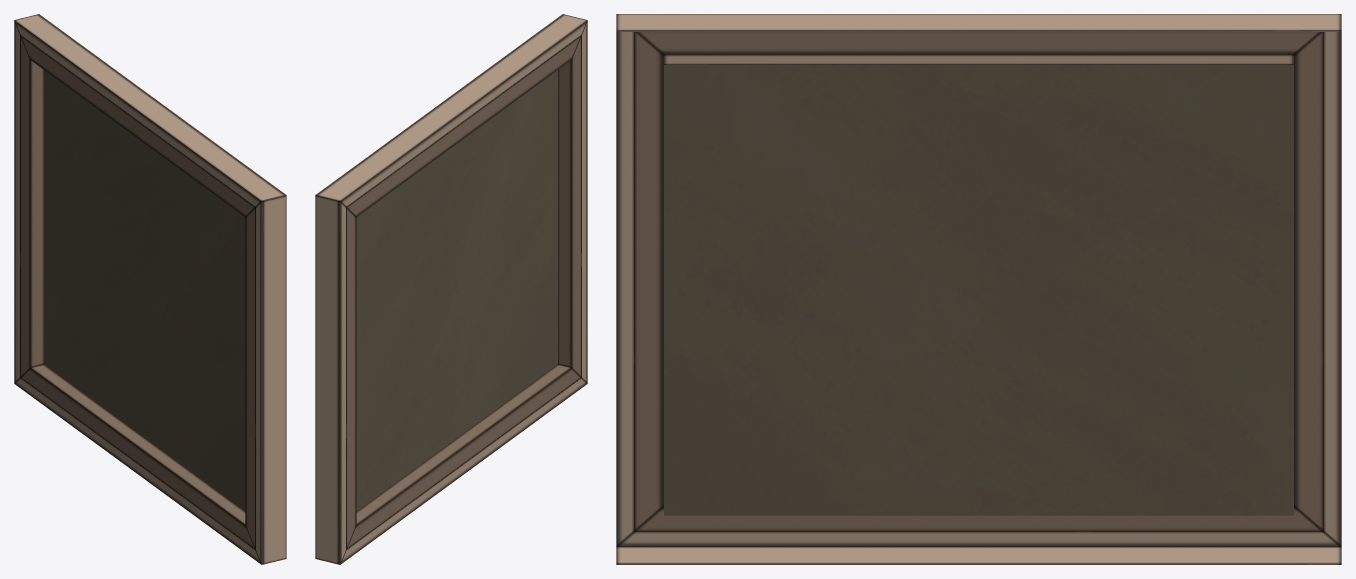
Rendered from noticeBoard2.fbx.
3 views of the same model, side by side, from view 1: azimuth 30°, elevation 25°; view 2: azimuth 150°, elevation 25°; view 3: azimuth 270°, elevation 25° (orthographic). The views are drawn at different scales.
Parts seen in each view (by area): view 1: polySurface187; view 2: polySurface187; view 3: polySurface187.
Boxes of the visible parts, x1=… form: polySurface187: x1=14, y1=14, x2=286, y2=564; polySurface187: x1=315, y1=14, x2=587, y2=564; polySurface187: x1=616, y1=14, x2=1341, y2=564.
Bounding box in the file's own units: 0.1195 × 1.66 × 2.05.
